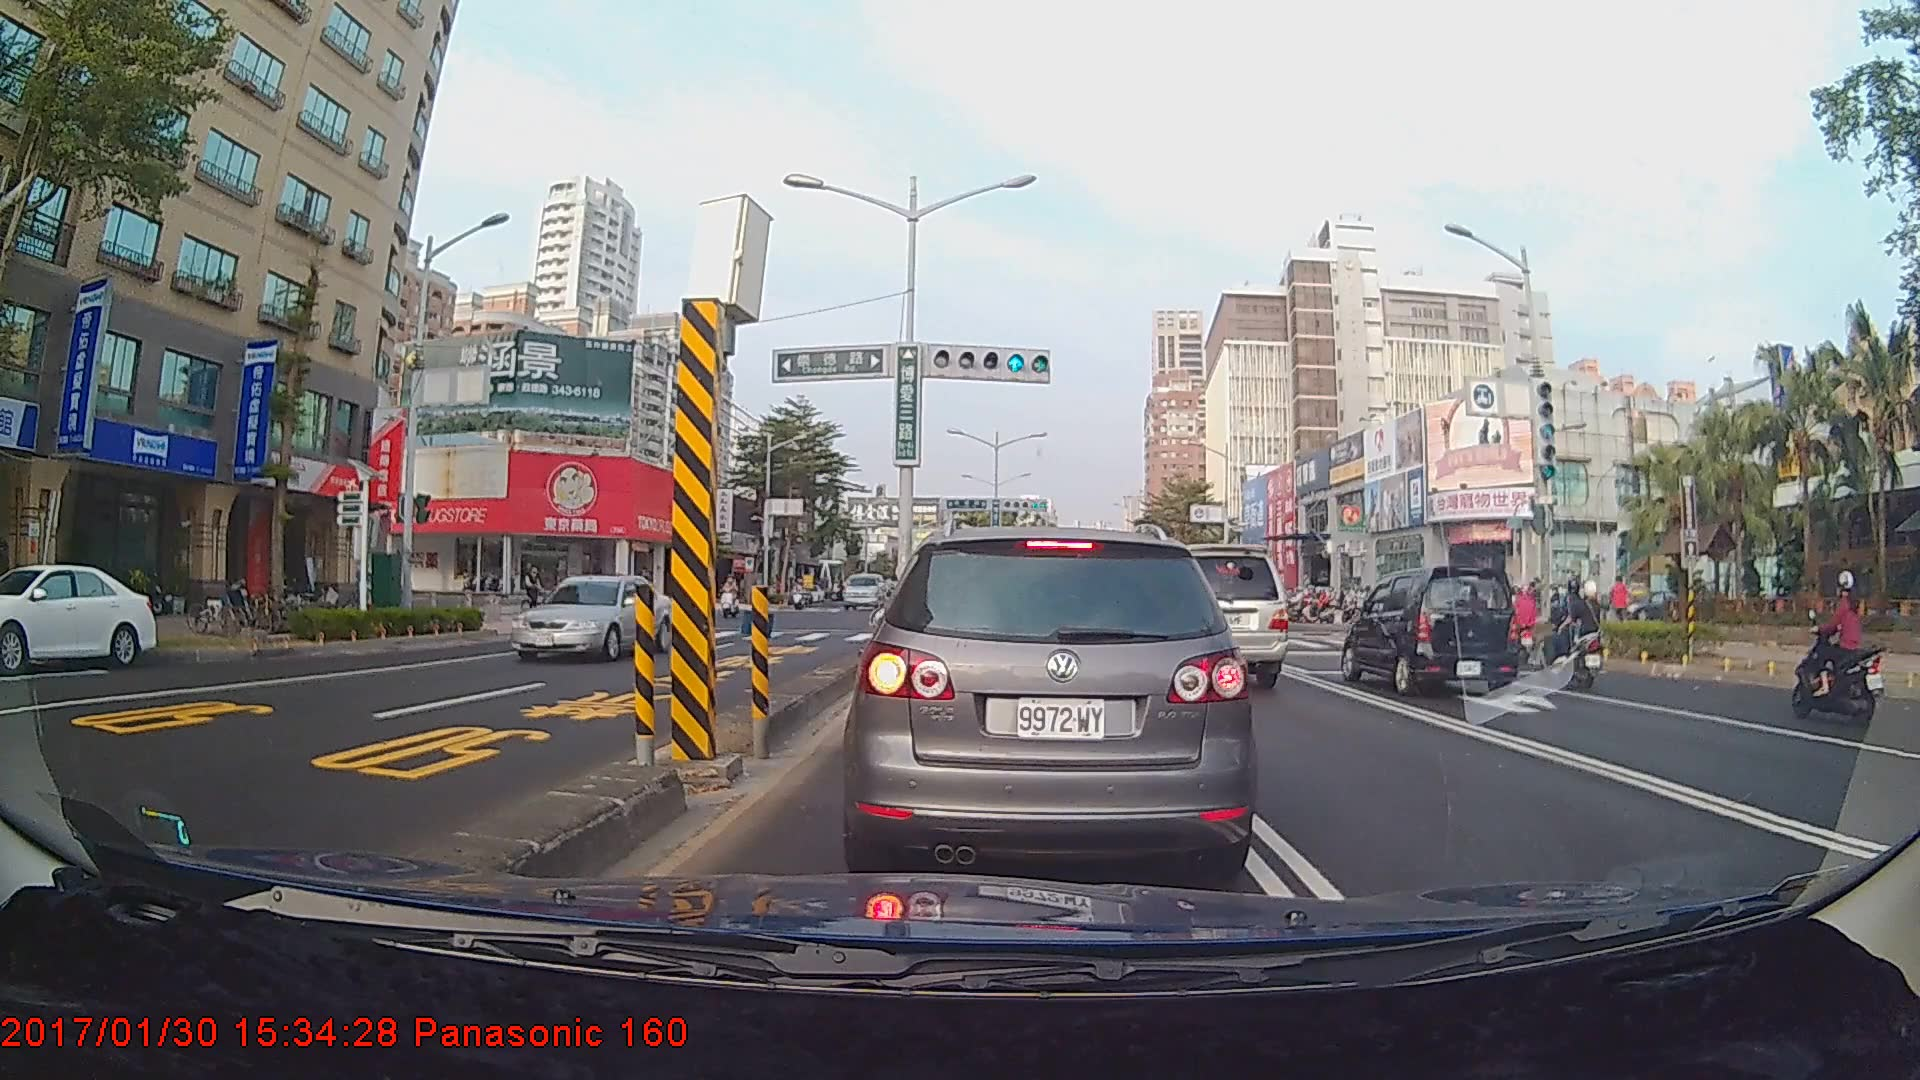rider: (1783, 565, 1888, 731), (1520, 574, 1613, 692), (518, 559, 561, 629), (1606, 570, 1638, 632)
vehicle: (853, 524, 1252, 875), (1337, 565, 1522, 704), (1113, 543, 1289, 690), (0, 561, 157, 671), (509, 572, 670, 663), (840, 571, 888, 612)
